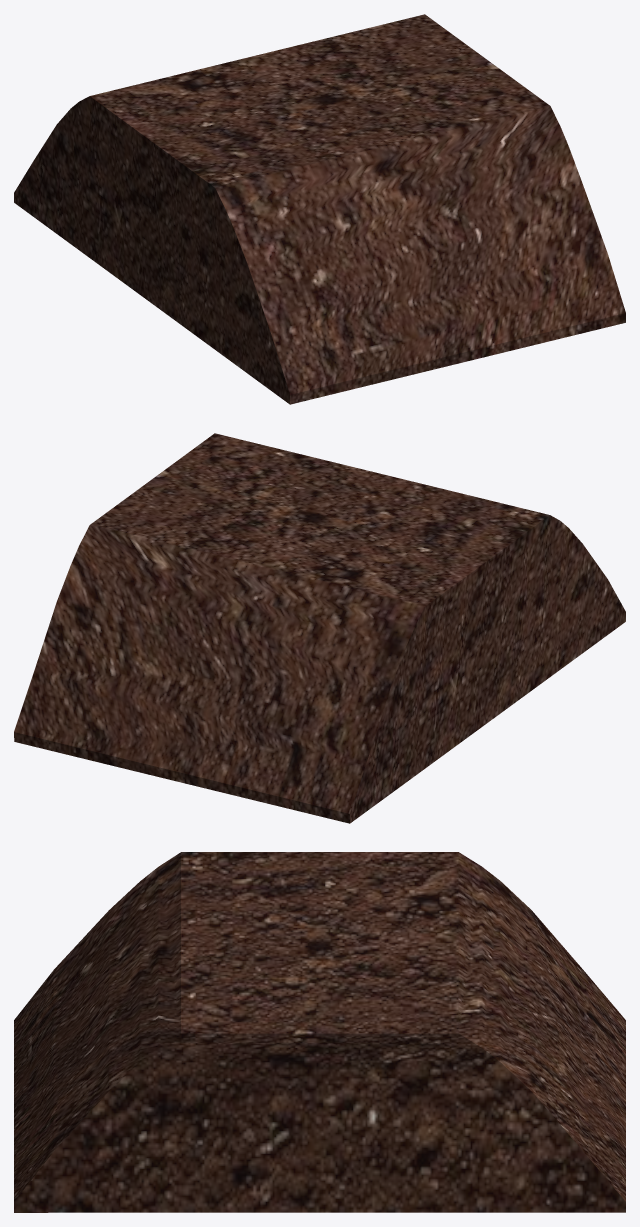
3 renders of one model, top to bottom at view 1: azimuth 30°, elevation 25°; view 2: azimuth 150°, elevation 25°; view 3: azimuth 270°, elevation 25°, orthographic. The views are drawn at different scales.
Parts seen in each view (by area): view 1: Box002; view 2: Box002; view 3: Box002.
Part boxes in pixels (x1,y1,x2,y2): Box002: (14,14,625,404); Box002: (14,433,625,823); Box002: (14,852,625,1212).
Size of the model in its own units: 84.35 by 38.76 by 120.
1 material, 1 textured.
